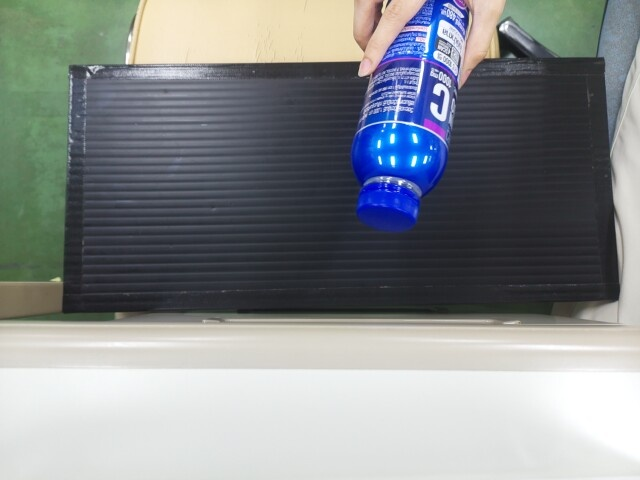plastic_bottle: (362, 12, 438, 234)
